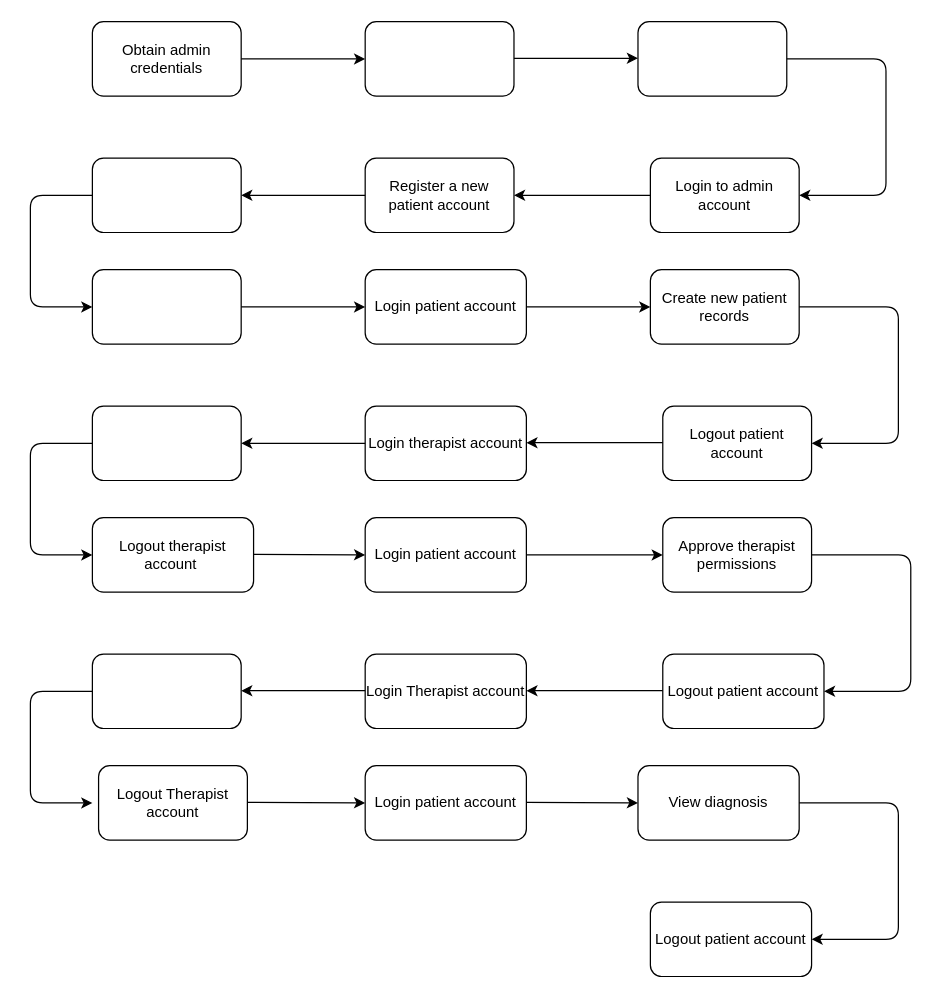
Some shapes in this 942 by 998 pixel diagram are drawn without their labels. The centre of each missing label's shape, as x and y in pixels:
"Add diagnosis for patient" belongs at pixel 166 690.
"Assign therapist to patient" belongs at pixel 166 194.
"Logout admin account" belongs at pixel 166 306.
"Obtain patient credentials" belongs at pixel 439 58.
"Obtain therapist credentials" belongs at pixel 712 58.
"Request permissions to access patient records" belongs at pixel 166 442.
